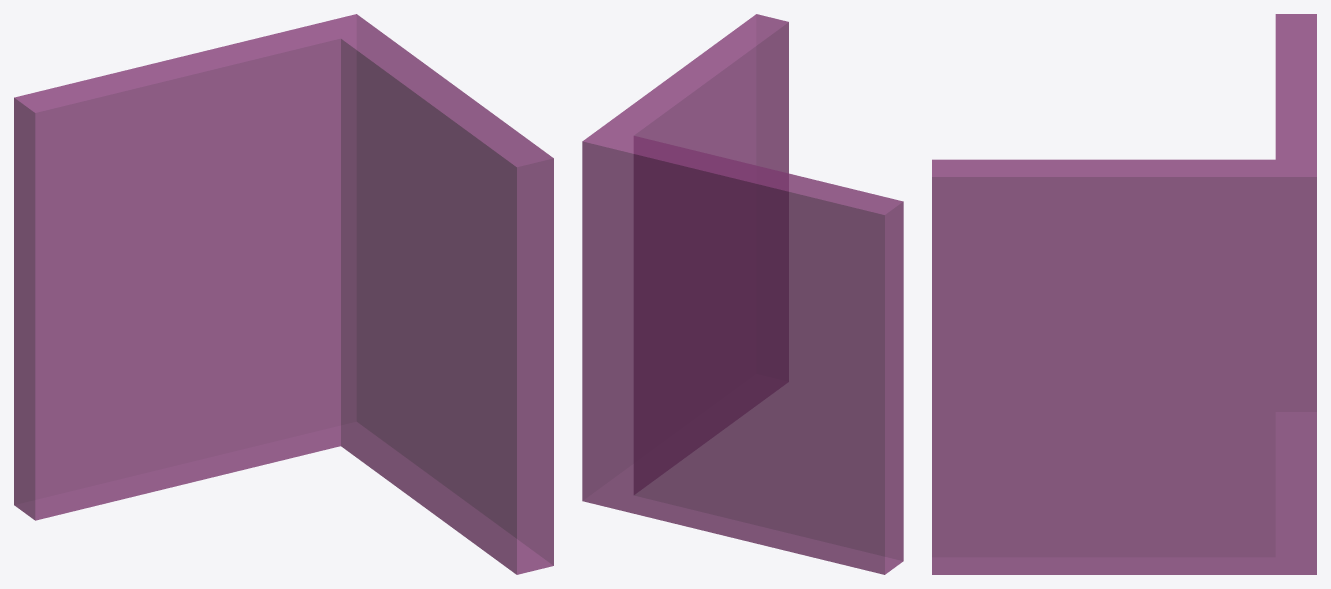
The model's file is SM_Bld_Base_Wall_Corner_01_Collision.fbx.
3 views of the same model, side by side, from view 1: azimuth 30°, elevation 25°; view 2: azimuth 150°, elevation 25°; view 3: azimuth 270°, elevation 25° (orthographic). The views are drawn at different scales.
Visible parts, largest first — view 1: SM_Bld_Base_Wall_Corner_01_Collision; view 2: SM_Bld_Base_Wall_Corner_01_Collision; view 3: SM_Bld_Base_Wall_Corner_01_Collision.
Boxes of the visible parts, x1,y1,x2,y2 form: SM_Bld_Base_Wall_Corner_01_Collision: (14,14,553,574); SM_Bld_Base_Wall_Corner_01_Collision: (582,14,903,574); SM_Bld_Base_Wall_Corner_01_Collision: (932,14,1316,574).
Size of the model in its own units: 267 by 303 by 266.
